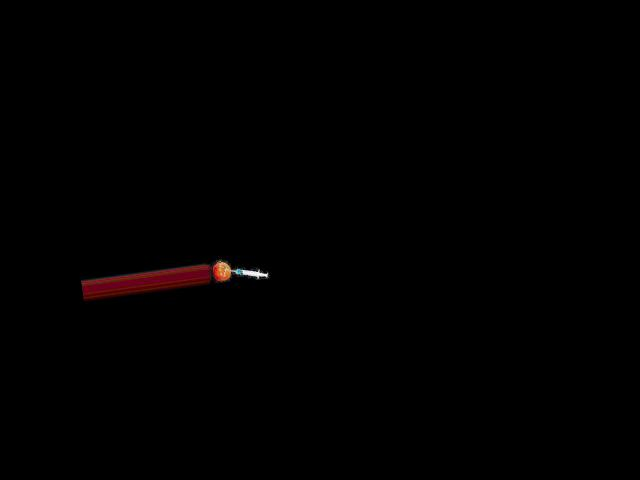tomato: (211, 260, 231, 282)
